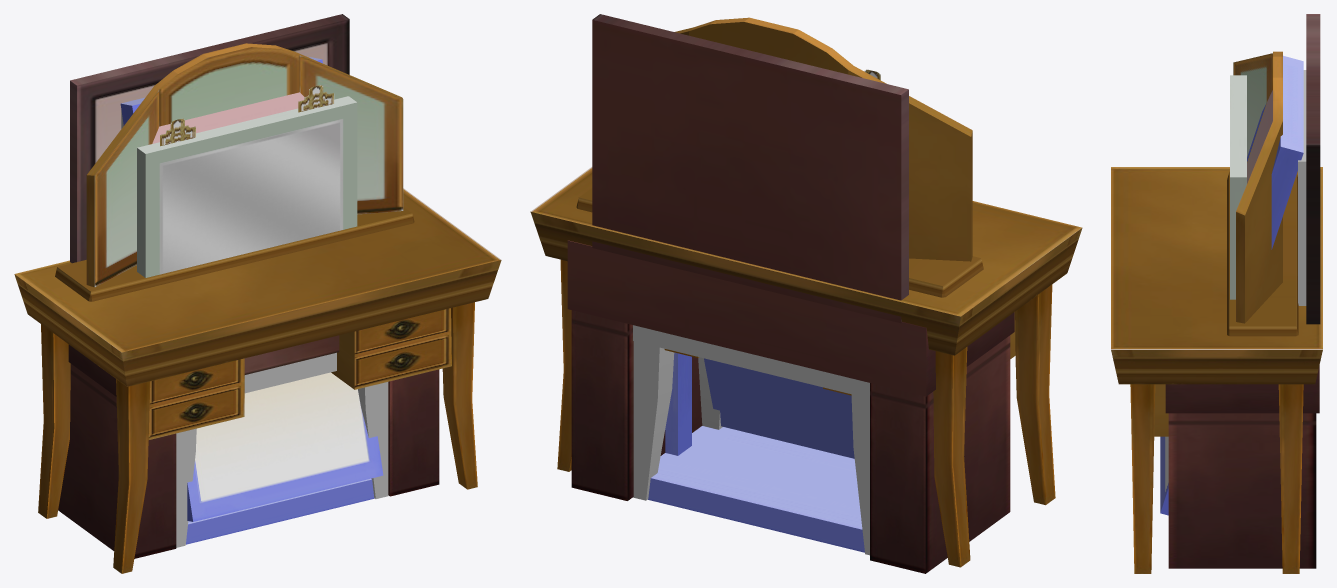
The model's file is dressingTables.fbx.
The picture shows the model from 3 angles, left to right: view 1: azimuth 30°, elevation 25°; view 2: azimuth 150°, elevation 25°; view 3: azimuth 270°, elevation 25°; orthographic projection. The views are drawn at different scales.
Visible parts, largest first — view 1: table3, table1, mirror1, mirror2, table2; view 2: table1, table3, mirror2, table2; view 3: table3, table1, mirror2, mirror1, table2.
Part boxes in pixels (box(x1,y1,x2,y2)): table3: box(14, 43, 501, 573); table1: box(58, 14, 439, 558); mirror1: box(137, 85, 357, 277); mirror2: box(120, 57, 383, 544); table2: box(121, 110, 388, 547); table1: box(567, 14, 1014, 573); table3: box(530, 17, 1082, 567); mirror2: box(648, 352, 864, 552); table2: box(633, 325, 869, 555); table3: box(1111, 51, 1322, 573); table1: box(1165, 14, 1320, 568); mirror2: box(1160, 55, 1303, 515); mirror1: box(1230, 75, 1246, 299); table2: box(1298, 70, 1306, 305).
Size of the model in its own units: 8.89 by 9.69 by 4.35.
